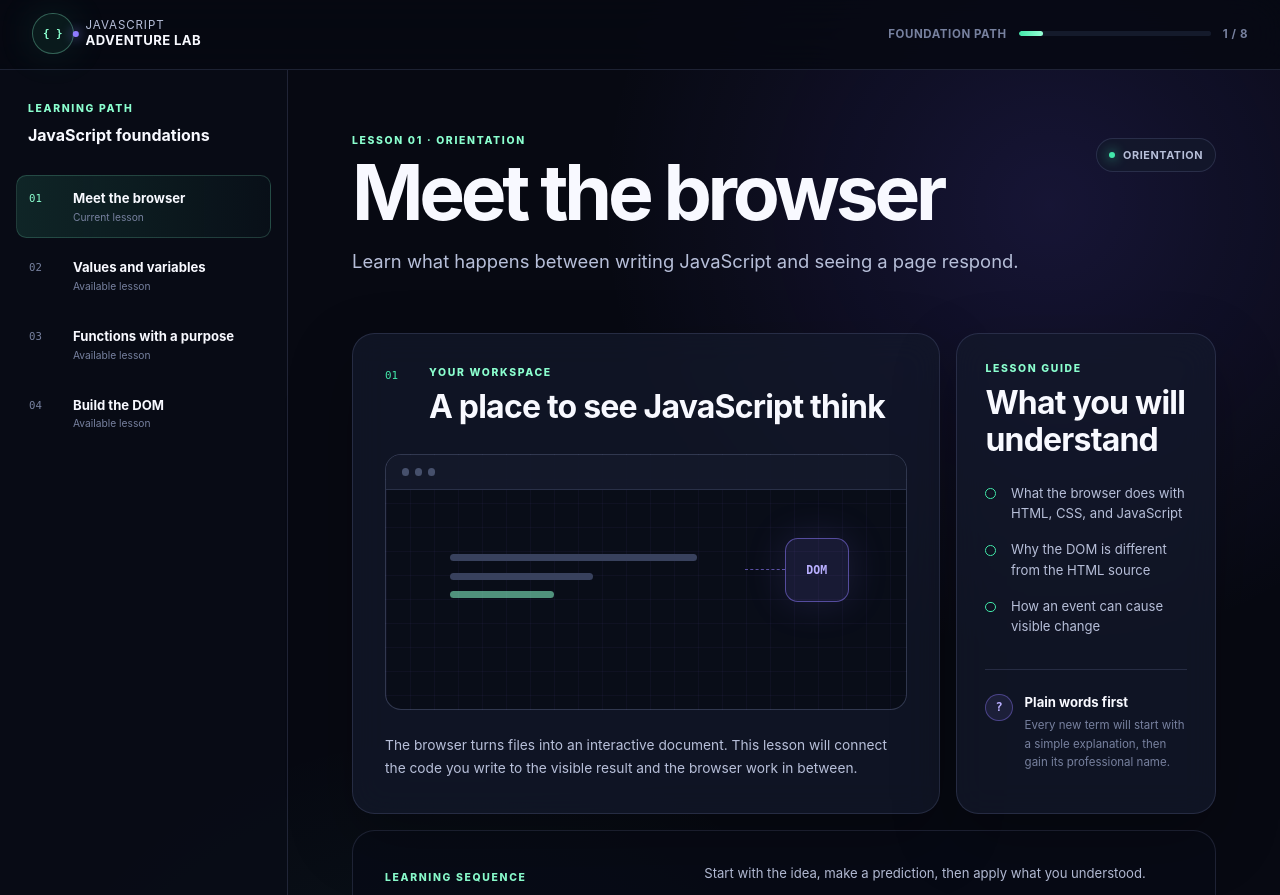
it: App › renders the selected lesson path from structured content
Click the link "04 Build the DOM Available lesson" at (96, 413), box [29,397,164,429]
(page scrolled)
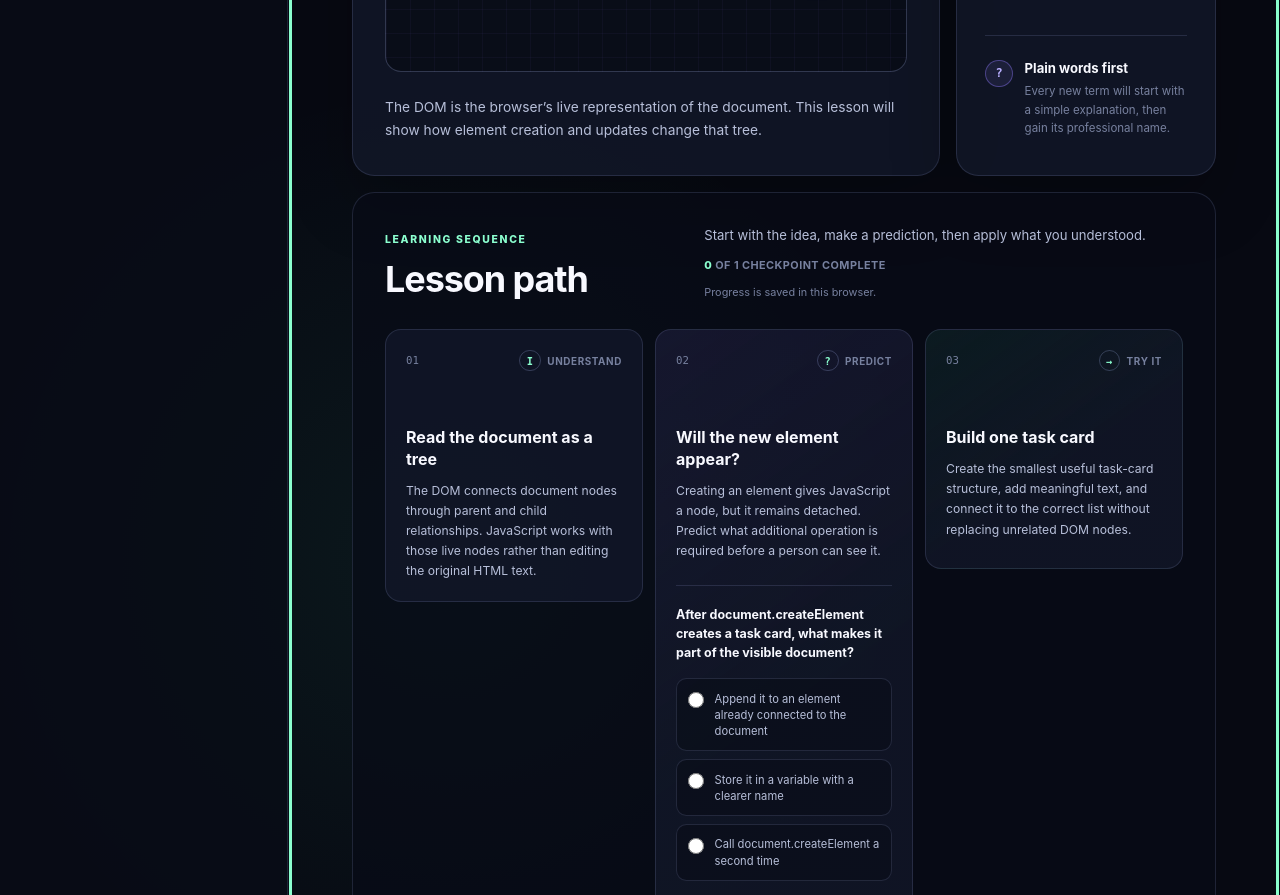
Check: the heading "Read the document as a tree" is shown, box [406,427,622,471]
